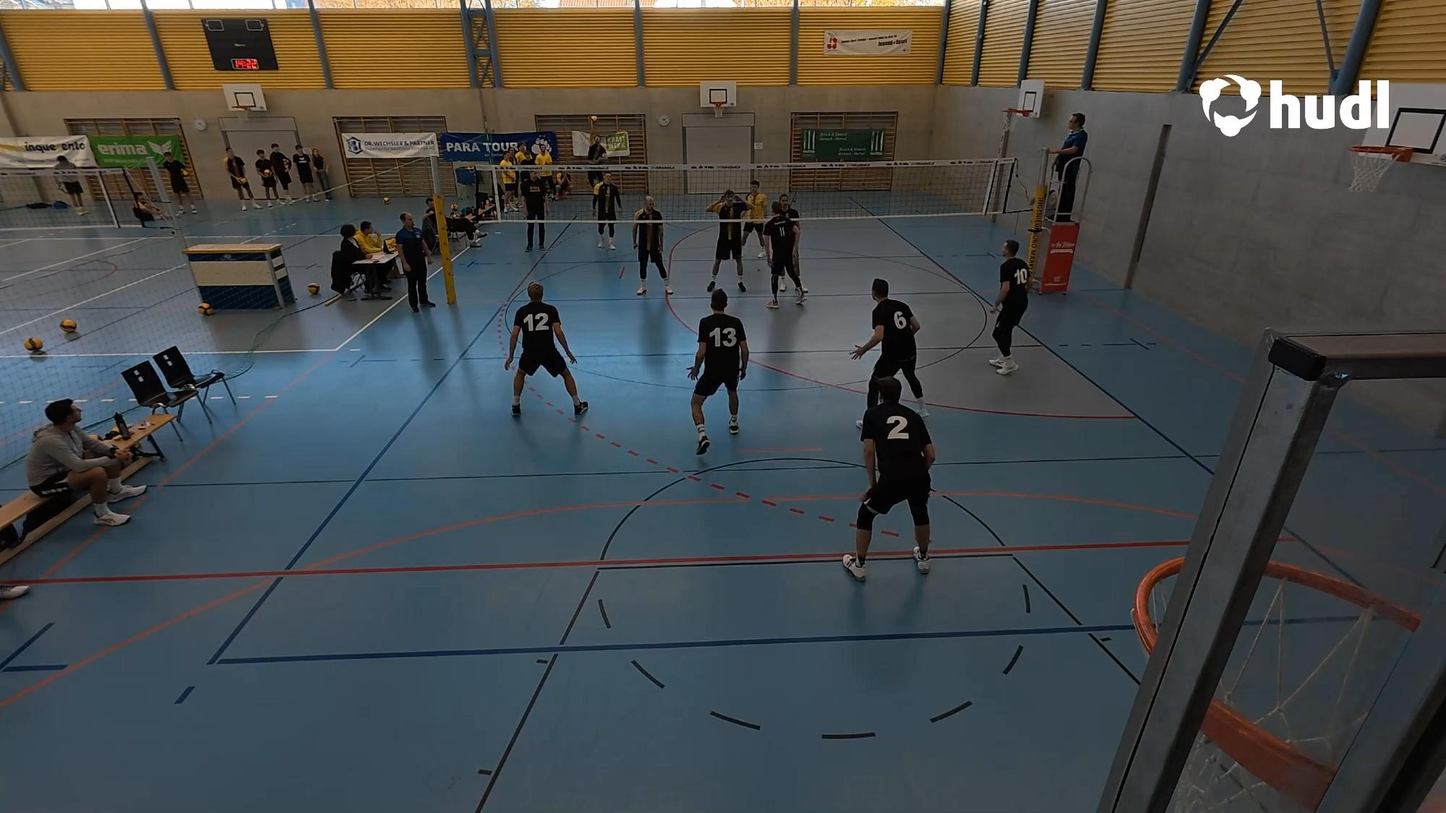Player: (846, 372, 935, 581), (688, 288, 750, 455), (850, 278, 927, 409), (509, 293, 589, 417), (986, 245, 1035, 375), (764, 198, 806, 307), (709, 190, 748, 294), (636, 199, 675, 297), (737, 178, 769, 259), (591, 178, 620, 254)
Serve: (583, 112, 606, 183)
ball: (586, 111, 600, 124)
